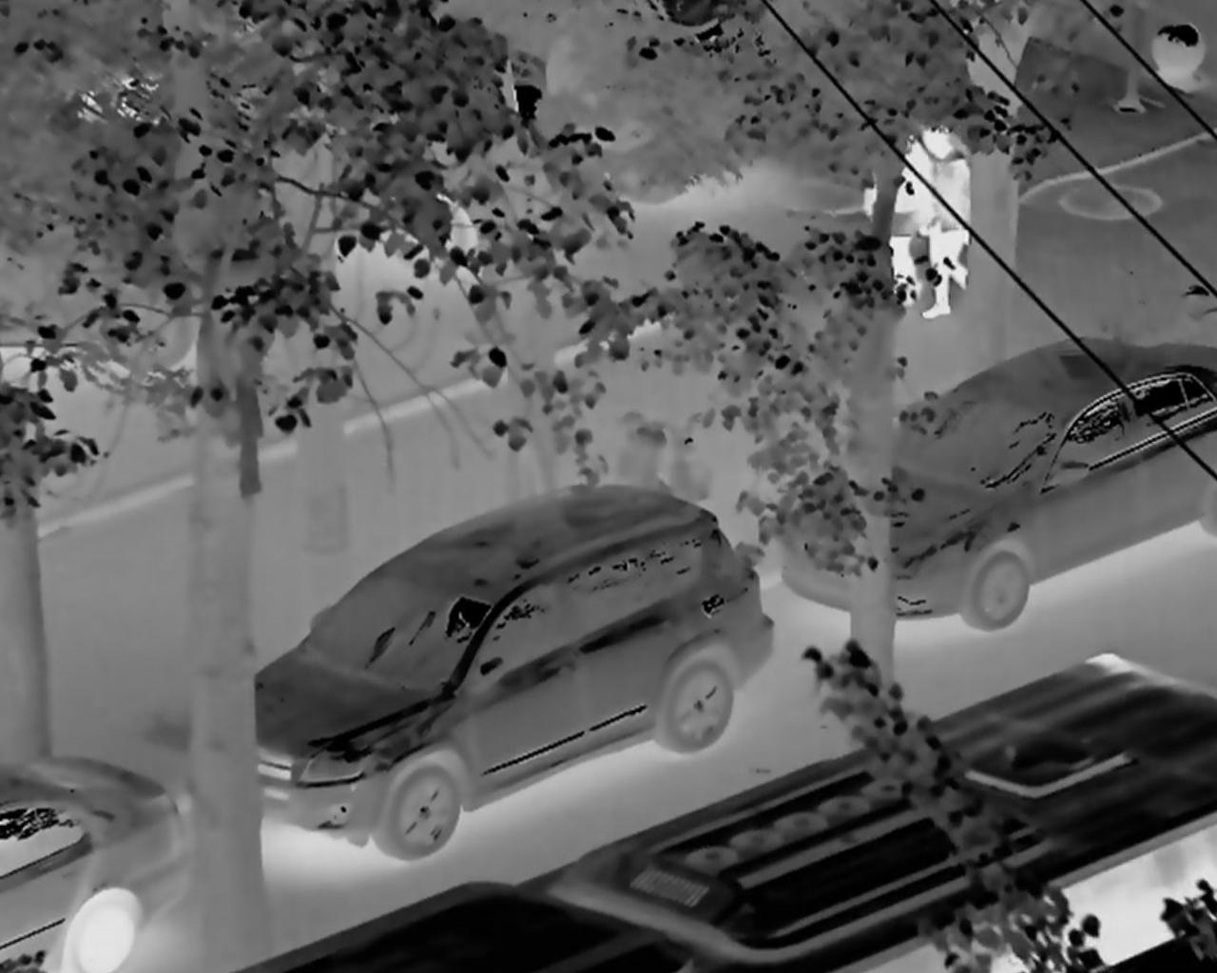person: (845, 96, 943, 313), (928, 93, 985, 329)
